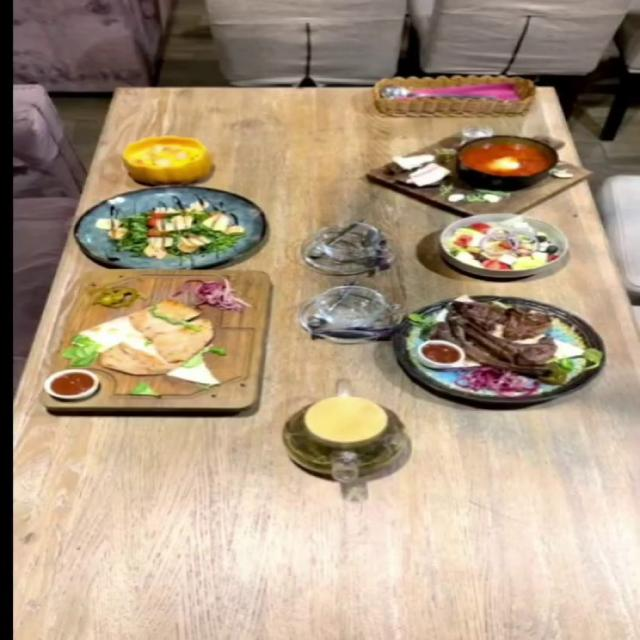meat: (392, 295, 608, 402)
salat: (72, 185, 264, 268), (437, 212, 570, 278)
soup: (387, 133, 566, 203), (122, 136, 211, 185)
tea: (280, 392, 410, 483)
